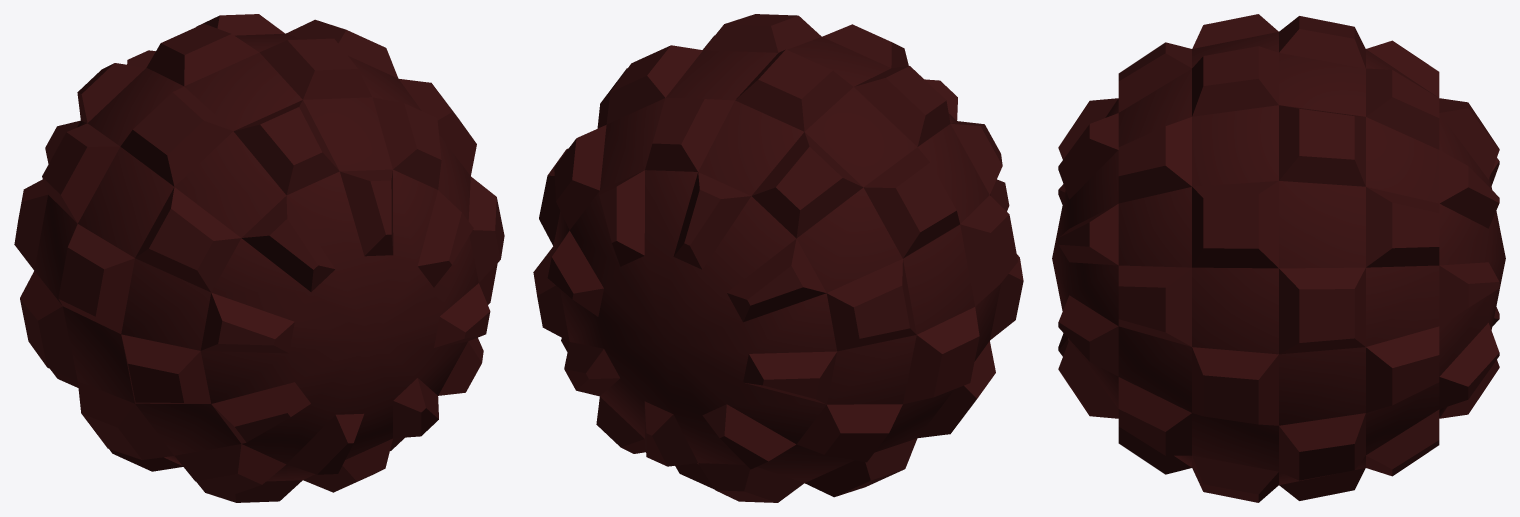
Rendered from SpikyPlanet.FBX.
3 views of the same model, side by side, from view 1: azimuth 30°, elevation 25°; view 2: azimuth 150°, elevation 25°; view 3: azimuth 270°, elevation 25° (orthographic).
Parts seen in each view (by area): view 1: Sphere004; view 2: Sphere004; view 3: Sphere004.
Part boxes in pixels (x1,y1,x2,y2): Sphere004: (14, 14, 504, 502); Sphere004: (533, 14, 1023, 502); Sphere004: (1052, 14, 1505, 502).
Size of the model in its own units: 60.78 by 60.78 by 56.57.
